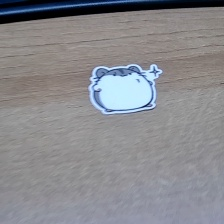mouse: (87, 61, 164, 122)
